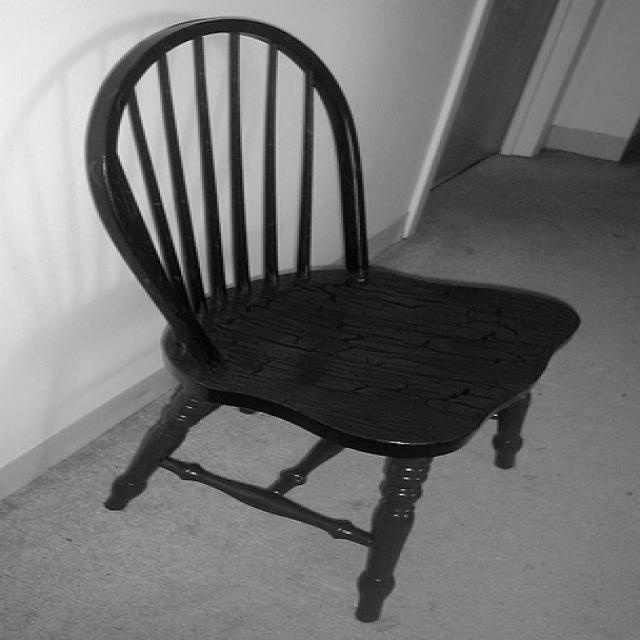chair: (52, 13, 581, 624)
